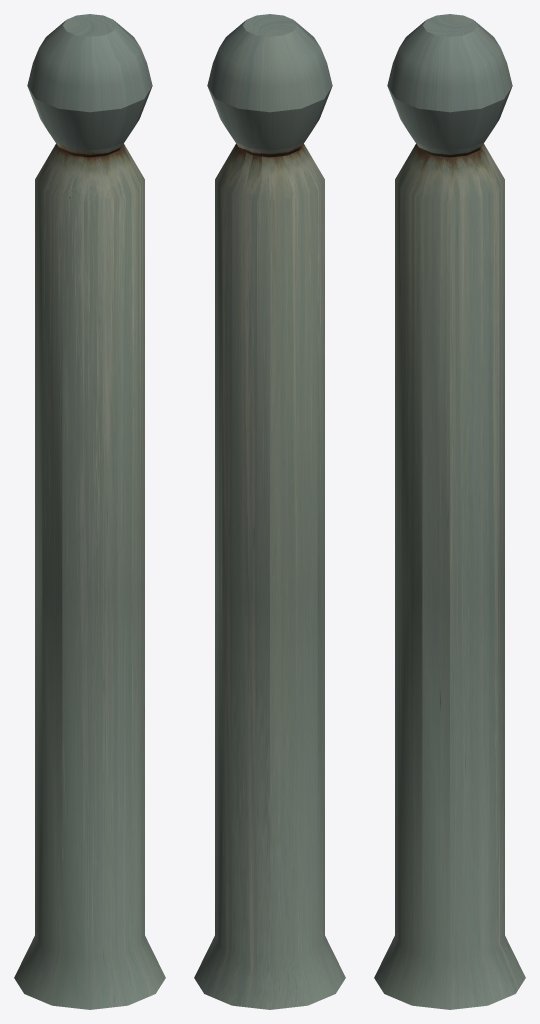
The model's file is poteau.fbx.
The picture shows the model from 3 angles, left to right: view 1: azimuth 30°, elevation 25°; view 2: azimuth 150°, elevation 25°; view 3: azimuth 270°, elevation 25°; orthographic projection.
Parts seen in each view (by area): view 1: poteau; view 2: poteau; view 3: poteau.
Boxes of the visible parts, <box> form: poteau: <box>14,14,165,1009</box>; poteau: <box>194,14,345,1009</box>; poteau: <box>374,14,525,1009</box>.
Size of the model in its own units: 3.68 by 25.45 by 3.68.
Materials: 1 (1 with a texture image).
